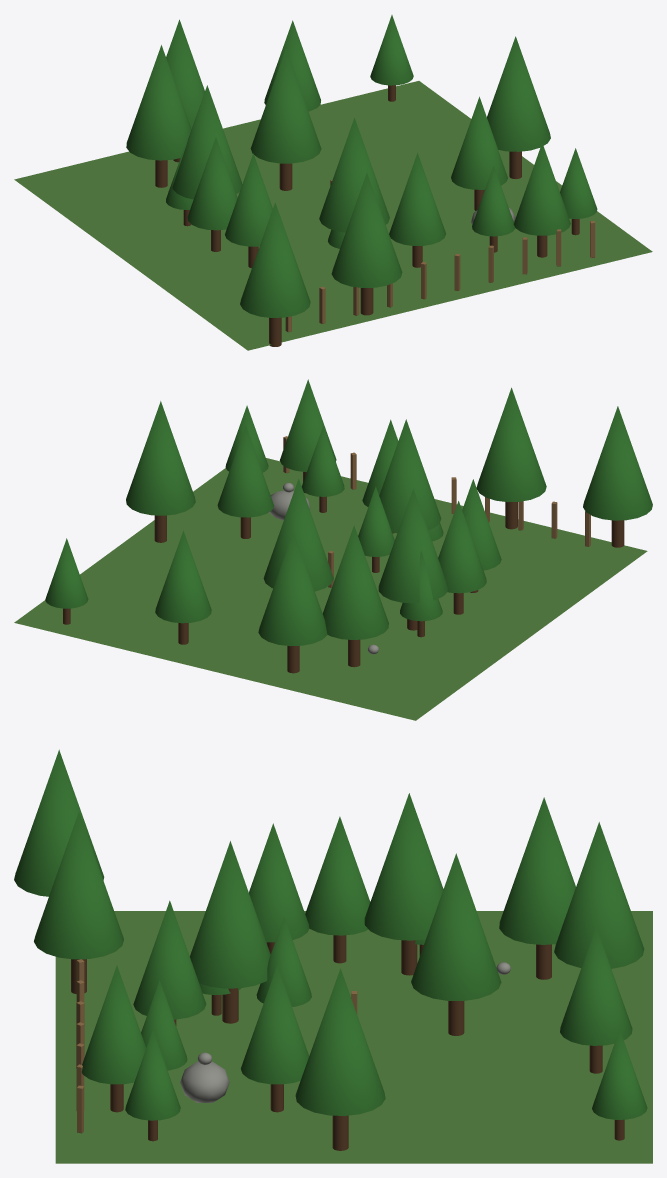
File: gen_forest_glade.mobile-high.glb
3 renders of one model, top to bottom at view 1: azimuth 30°, elevation 25°; view 2: azimuth 150°, elevation 25°; view 3: azimuth 270°, elevation 25°, orthographic. The views are drawn at different scales.
Parts seen in each view (by area): view 1: Plane, tree_018, tree_004, tree_016, tree_011, tree_013, tree_000, tree_006, tree_015, tree_019, tree_007, tree_014 (+7 smaller); view 2: Plane, tree_004, tree_013, tree_018, tree_008, tree_011, tree_019, tree_000, tree_003, tree_016, tree_007, tree_014 (+9 smaller); view 3: Plane, tree_013, tree_016, tree_018, tree_000, tree_019, tree_011, tree_008, tree_003, tree_007, tree_004, tree_014 (+8 smaller).
Boxes of the visible parts, box(x1,y1,x2,y2) form: Plane: box(14, 81, 652, 350); tree_018: box(331, 173, 402, 315); tree_004: box(240, 202, 310, 346); tree_016: box(250, 48, 321, 190); tree_011: box(126, 45, 191, 187); tree_013: box(487, 36, 550, 178); tree_000: box(319, 118, 389, 232); tree_006: box(389, 153, 445, 267); tree_015: box(513, 143, 570, 257); tree_019: box(172, 85, 242, 199); tree_007: box(451, 96, 507, 210); tree_014: box(187, 137, 237, 251); Plane: box(14, 458, 647, 720); tree_004: box(583, 406, 652, 547); tree_013: box(126, 401, 195, 542); tree_018: box(476, 387, 546, 529); tree_008: box(258, 531, 327, 673); tree_011: box(322, 525, 388, 667); tree_019: box(378, 489, 447, 630); tree_000: box(379, 419, 441, 533); tree_003: box(155, 530, 211, 644); tree_016: box(263, 479, 333, 591); tree_007: box(217, 425, 273, 538); tree_014: box(438, 501, 486, 614); Plane: box(55, 911, 652, 1163); tree_013: box(295, 968, 385, 1150); tree_016: box(411, 853, 501, 1035); tree_018: box(34, 812, 123, 993); tree_000: box(190, 841, 270, 1023); tree_019: box(364, 793, 443, 975); tree_011: box(499, 797, 575, 979); tree_008: box(554, 822, 644, 968); tree_003: box(560, 926, 632, 1073); tree_007: box(240, 965, 309, 1112); tree_004: box(14, 749, 104, 896); tree_014: box(305, 816, 370, 963).
Bounding box in the file's own units: 12.2 × 4.03 × 12.84.
1 material, 1 textured.
